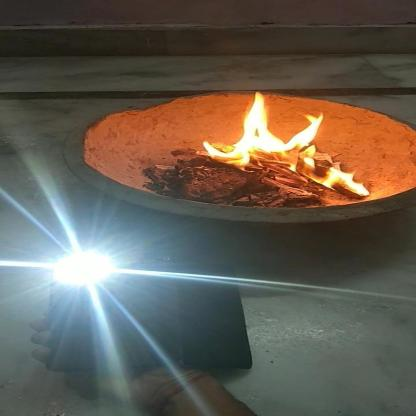fire: (200, 90, 370, 200)
